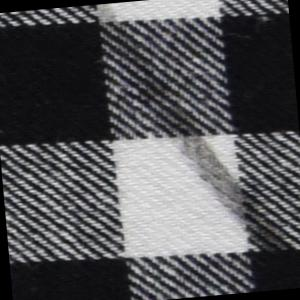Stain: (111, 24, 293, 272)
